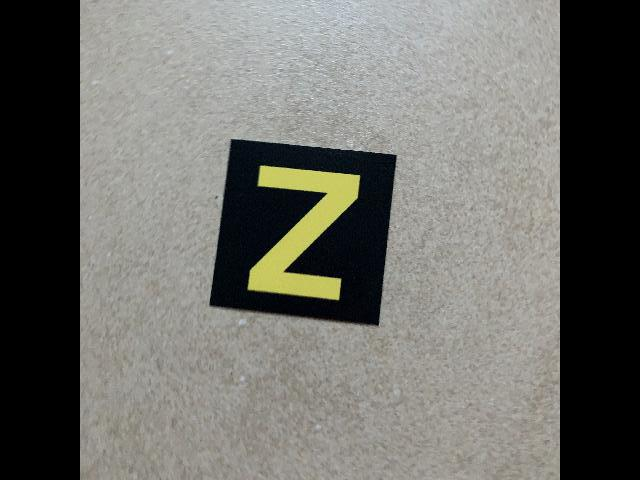alphabet_z: (208, 134, 399, 330)
